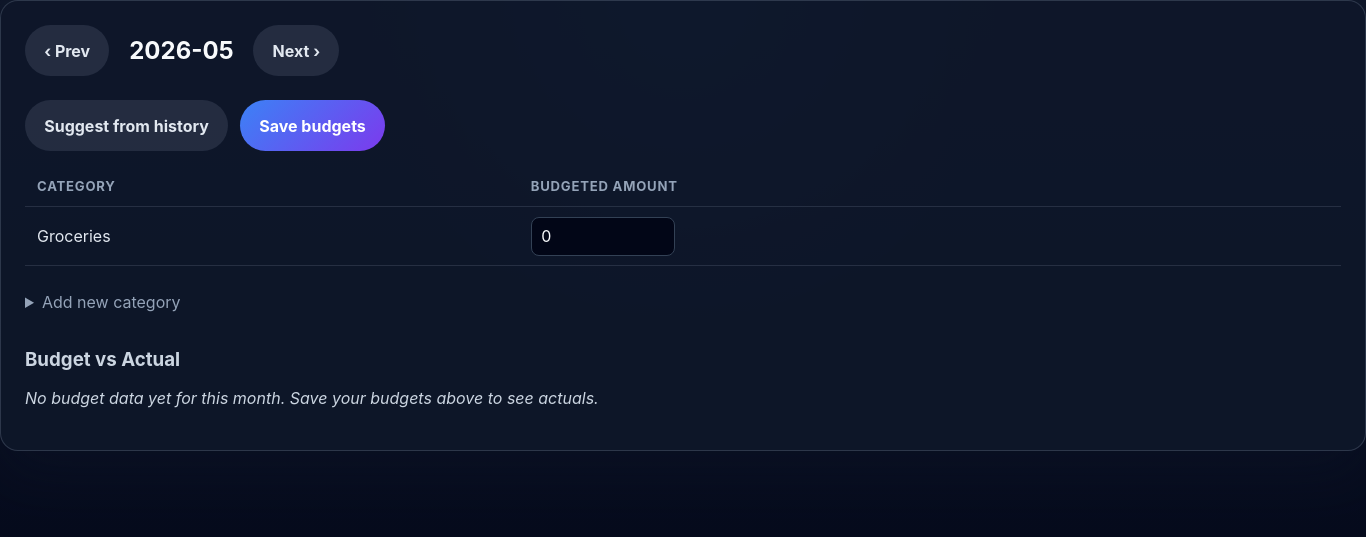
BudgetPage › shows a success message after saving budgets
Expected: the text "Groceries" is shown, [25,207,519,266]
Click the button "Save budgets": (312, 126) [240,100,385,151]
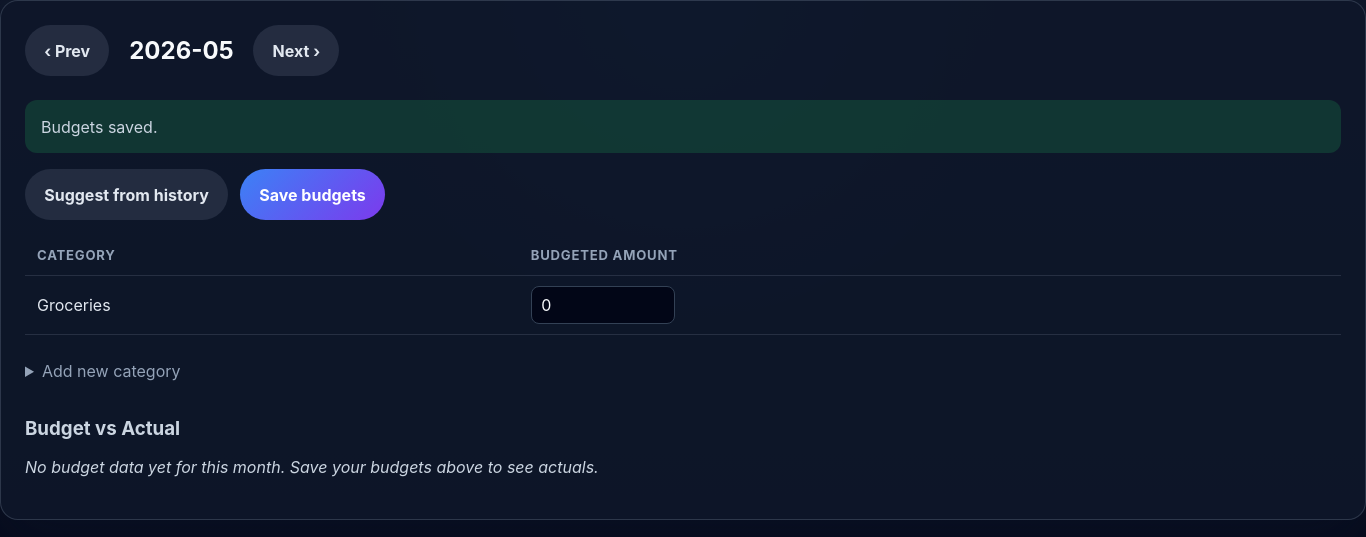
Expected: the text "Budgets saved." is shown, [25,100,1341,153]
